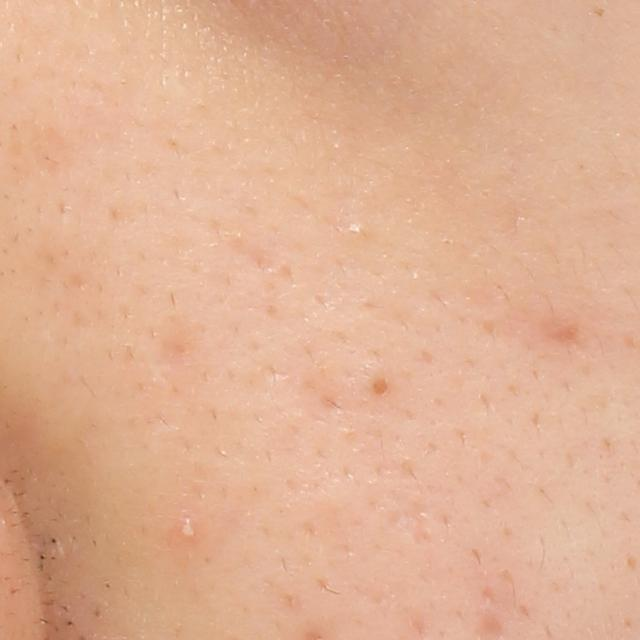comedo: (347, 222, 369, 247)
pustule: (164, 510, 208, 544)
